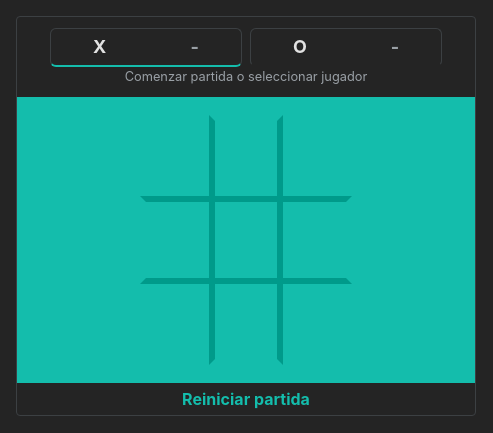
Test: Victorias en el juego › La O gana el juego
Click the 9th list item. click: (315, 321)
box: [277, 278, 352, 364]
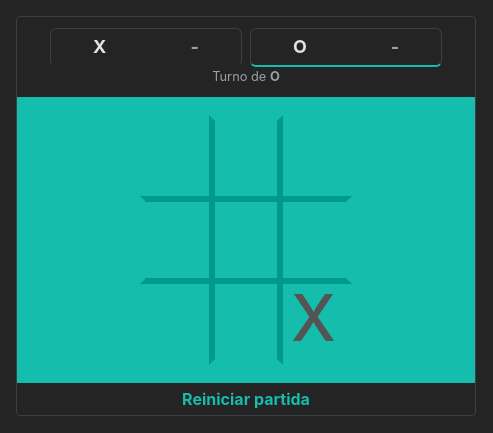
Click the 1st list item. click: (177, 159)
box: [140, 116, 215, 202]
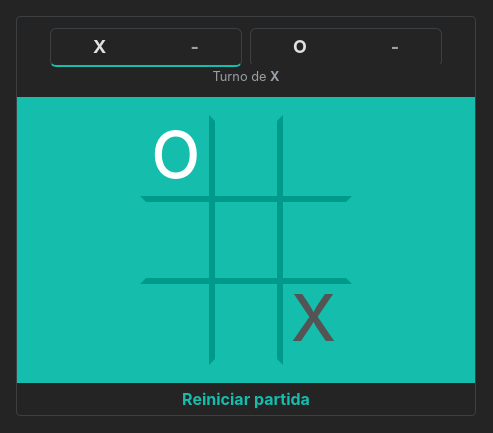
Click the 5th list item. click: (246, 240)
box: [209, 196, 283, 284]
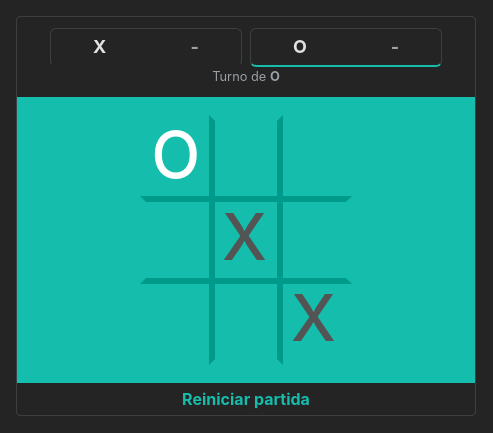
Click the 2nd list item. click: (246, 159)
box: [209, 116, 283, 202]
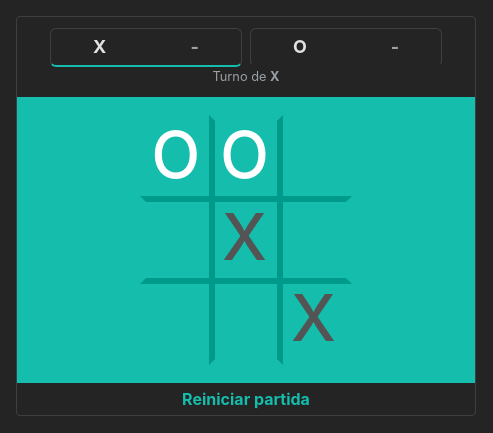
Click the 4th list item. click: (177, 240)
box: [140, 196, 215, 284]
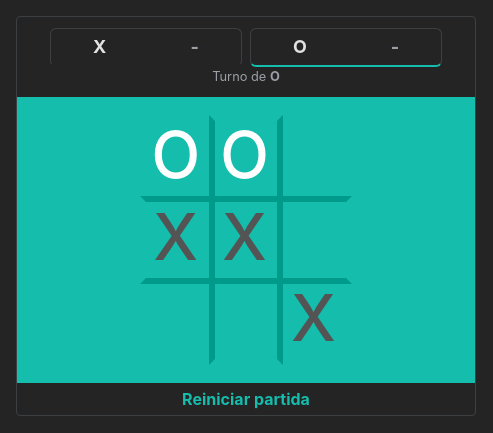
Click the 3rd list item. click: (315, 159)
box: [277, 116, 352, 202]
Wait 1500 ms
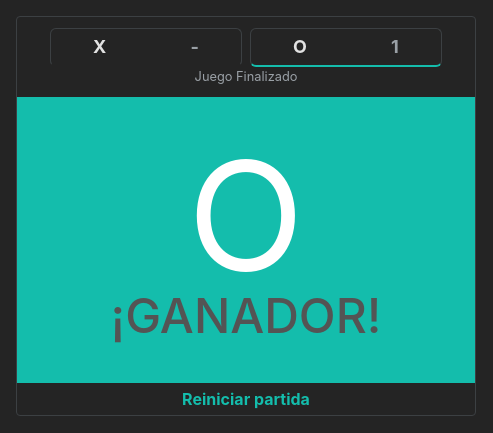
Expected: the heading "O" is shown, [188, 140, 304, 292]
Expected: the text "¡GANADOR!" is shown, [111, 292, 381, 340]
Expected: the text "1" is shown, [391, 33, 399, 61]
